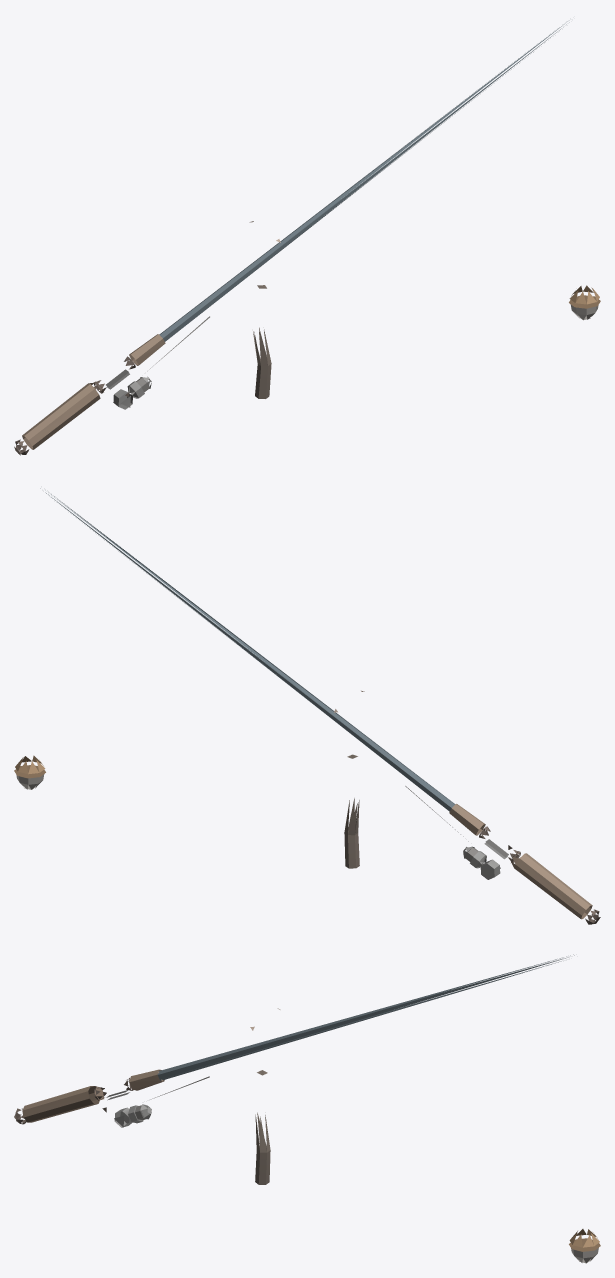
The model's file is rod.lod.glb.
3 renders of one model, top to bottom at view 1: azimuth 30°, elevation 25°; view 2: azimuth 150°, elevation 25°; view 3: azimuth 330°, elevation 25°, orthographic.
Visible parts, largest first — view 1: rod.001; view 2: rod.001; view 3: rod.001.
Part boxes in pixels (x1=…): rod.001: x1=14, y1=20, x2=600, y2=455; rod.001: x1=14, y1=488, x2=600, y2=924; rod.001: x1=14, y1=954, x2=600, y2=1263.
Bounding box in the file's own units: 2.23 × 1.12 × 0.188.
